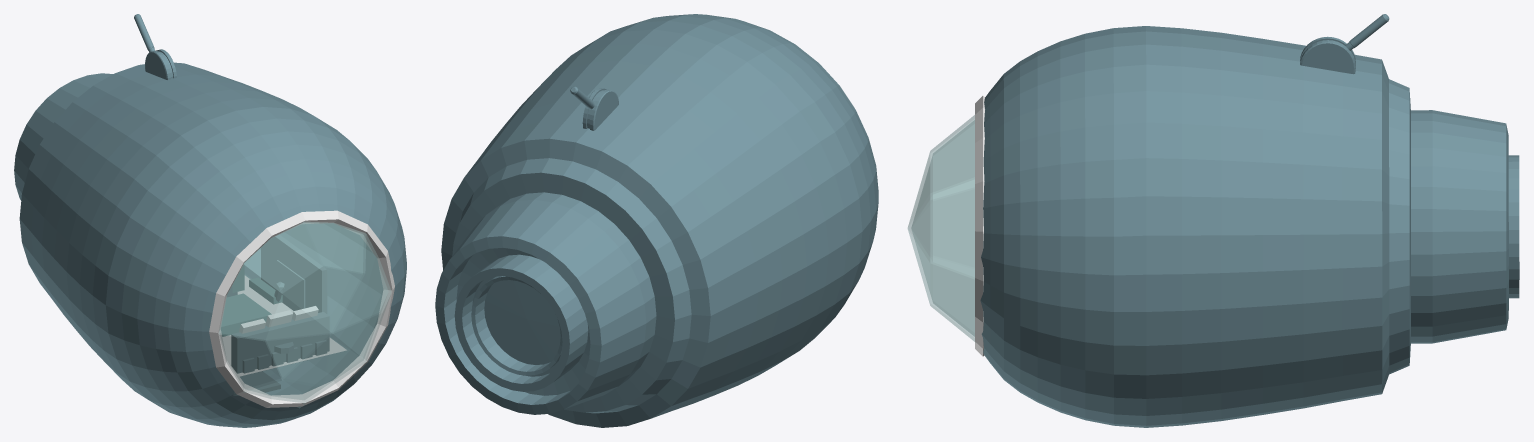
The model's file is Common_Mola (1).fbx.
3 views of the same model, side by side, from view 1: azimuth 30°, elevation 25°; view 2: azimuth 150°, elevation 25°; view 3: azimuth 270°, elevation 25° (orthographic). The views are drawn at different scales.
Parts seen in each view (by area): view 1: 구체.001, Mola_Windshield, Mola_HUD_Ring, Mola_Interior_Panels, Mola_Dashboard, Mola_Cockpit_Seat, Mola_Floor, 실린더; view 2: 구체.001, 실린더; view 3: 구체.001, Mola_Windshield, Mola_HUD_Ring, 실린더.
Boxes of the visible parts, box(x1,y1,x2,y2) form: 구체.001: box(14, 62, 406, 427); Mola_Windshield: box(219, 222, 391, 407); Mola_HUD_Ring: box(209, 210, 394, 407); Mola_Interior_Panels: box(240, 234, 327, 392); Mola_Dashboard: box(231, 312, 329, 373); Mola_Cockpit_Seat: box(221, 264, 282, 336); Mola_Floor: box(222, 275, 346, 376); 실린더: box(145, 49, 176, 79); 구체.001: box(435, 14, 878, 427); 실린더: box(582, 88, 618, 130); 구체.001: box(980, 26, 1519, 427); Mola_Windshield: box(907, 115, 985, 350); Mola_HUD_Ring: box(975, 96, 984, 356); 실린더: box(1300, 36, 1355, 74).
Bounding box in the file's own units: 218 × 235 × 330.
